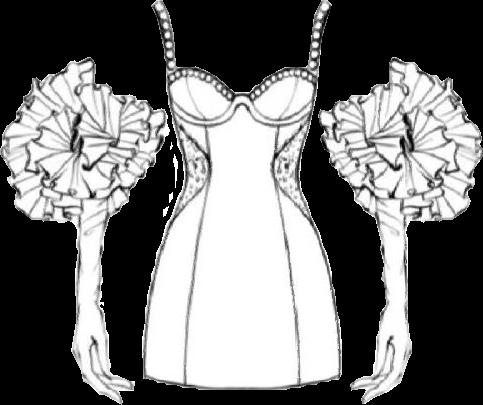Bodice: (151, 0, 331, 174)
Hemline: (142, 374, 341, 392)
Neckline: (158, 0, 325, 96), (169, 102, 312, 129)
Skirt: (142, 174, 341, 389)
Sleeve: (0, 57, 169, 404), (318, 57, 482, 403)
Sleeveline: (319, 60, 392, 113), (90, 63, 158, 111), (74, 213, 111, 227), (373, 212, 410, 225)
